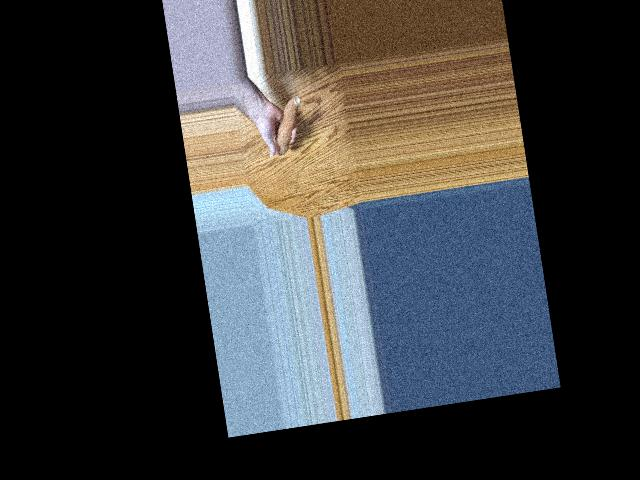sweet_potato: (270, 95, 307, 158)
